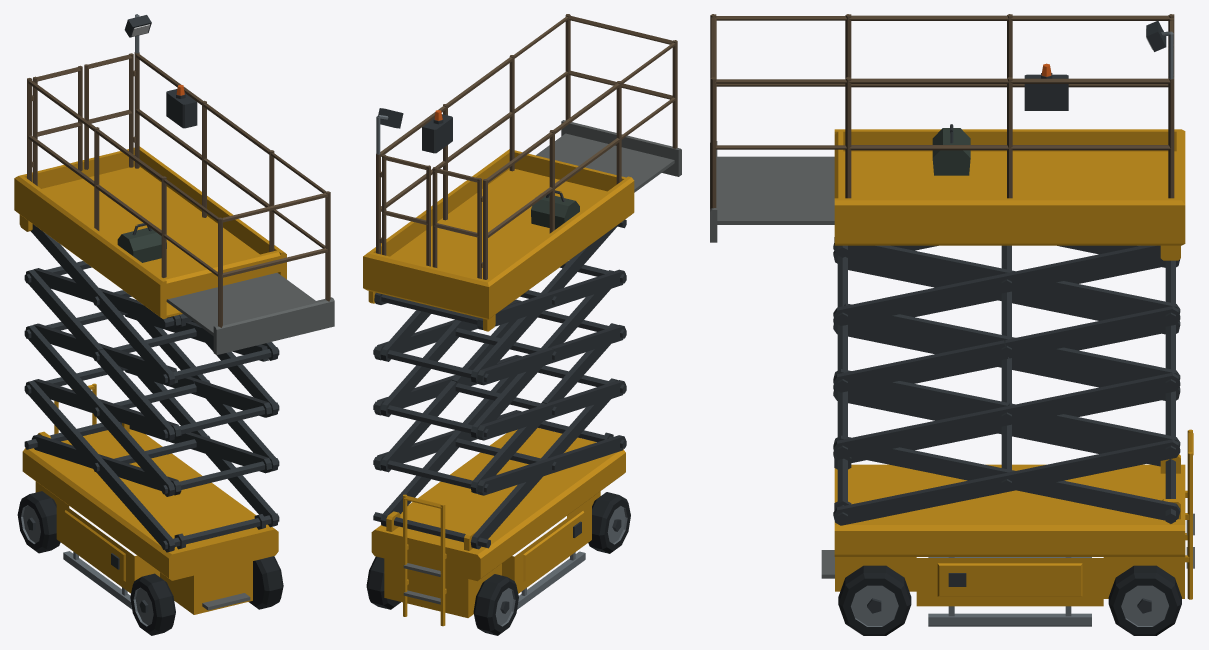
Rendered from scissor-lift-platform-3eae3f.glb.
3 renders of one model, left to right at view 1: azimuth 30°, elevation 25°; view 2: azimuth 150°, elevation 25°; view 3: azimuth 270°, elevation 25°, orthographic. The views are drawn at different scales.
Parts seen in each view (by area): view 1: platform-mesh, chassis-mesh, extension-mesh, arm-b1-mesh, arm-b2-mesh, scissor-lower-mesh, scissor-upper-mesh, arm-a3-mesh, arm-a2-upper-mesh, arm-b3-lower-mesh, wheel-fr-mesh, arm-a4-mesh (+8 smaller); view 2: platform-mesh, chassis-mesh, extension-mesh, scissor-lower-mesh, arm-b2-mesh, arm-b1-mesh, arm-a3-mesh, arm-a4-mesh, scissor-upper-mesh, arm-a2-lower-mesh, arm-a2-upper-mesh, wheel-rr-mesh (+8 smaller); view 3: platform-mesh, chassis-mesh, extension-mesh, scissor-lower-mesh, arm-b1-mesh, arm-b2-mesh, arm-a3-mesh, scissor-upper-mesh, arm-a4-mesh, arm-a2-upper-mesh, wheel-fl-mesh, wheel-rl-mesh (+5 smaller).
Part boxes in pixels (box(x1,y1,x2,y2)): platform-mesh: box(14, 14, 286, 319); chassis-mesh: box(22, 383, 278, 614); extension-mesh: box(163, 153, 334, 355); arm-b1-mesh: box(24, 355, 279, 552); arm-b2-mesh: box(24, 311, 278, 496); scissor-lower-mesh: box(24, 422, 279, 495); scissor-upper-mesh: box(31, 224, 279, 385); arm-a3-mesh: box(33, 314, 268, 383); arm-a2-upper-mesh: box(103, 379, 279, 439); arm-b3-lower-mesh: box(97, 343, 278, 441); wheel-fr-mesh: box(130, 573, 175, 635); arm-a4-mesh: box(24, 261, 191, 328); platform-mesh: box(363, 55, 634, 331); chassis-mesh: box(371, 428, 625, 626); extension-mesh: box(514, 14, 681, 192); scissor-lower-mesh: box(373, 356, 626, 549); arm-b2-mesh: box(373, 355, 625, 440); arm-b1-mesh: box(373, 410, 626, 495); arm-a3-mesh: box(380, 270, 613, 438); arm-a4-mesh: box(373, 219, 626, 383); scissor-upper-mesh: box(374, 261, 626, 329); arm-a2-lower-mesh: box(380, 380, 545, 493); arm-a2-upper-mesh: box(452, 301, 626, 403); wheel-rr-mesh: box(473, 574, 518, 635); platform-mesh: box(834, 14, 1185, 260); chassis-mesh: box(821, 429, 1194, 606); extension-mesh: box(710, 14, 846, 242); scissor-lower-mesh: box(833, 388, 1180, 523); arm-b1-mesh: box(833, 387, 1180, 525); arm-b2-mesh: box(833, 320, 1180, 459); arm-a3-mesh: box(844, 256, 1180, 380); scissor-upper-mesh: box(833, 245, 1162, 325); arm-a4-mesh: box(833, 237, 1180, 324); arm-a2-upper-mesh: box(833, 321, 1008, 413); wheel-fl-mesh: box(838, 565, 911, 635); wheel-rl-mesh: box(1108, 565, 1181, 635).
Bounding box in the file's own units: 1.22 × 4.55 × 3.32.
